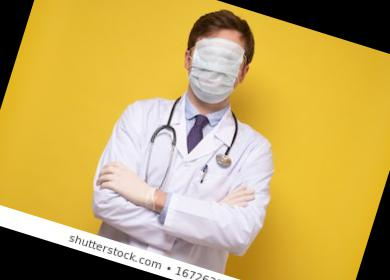mask_weared_incorrect: (171, 33, 256, 112)
